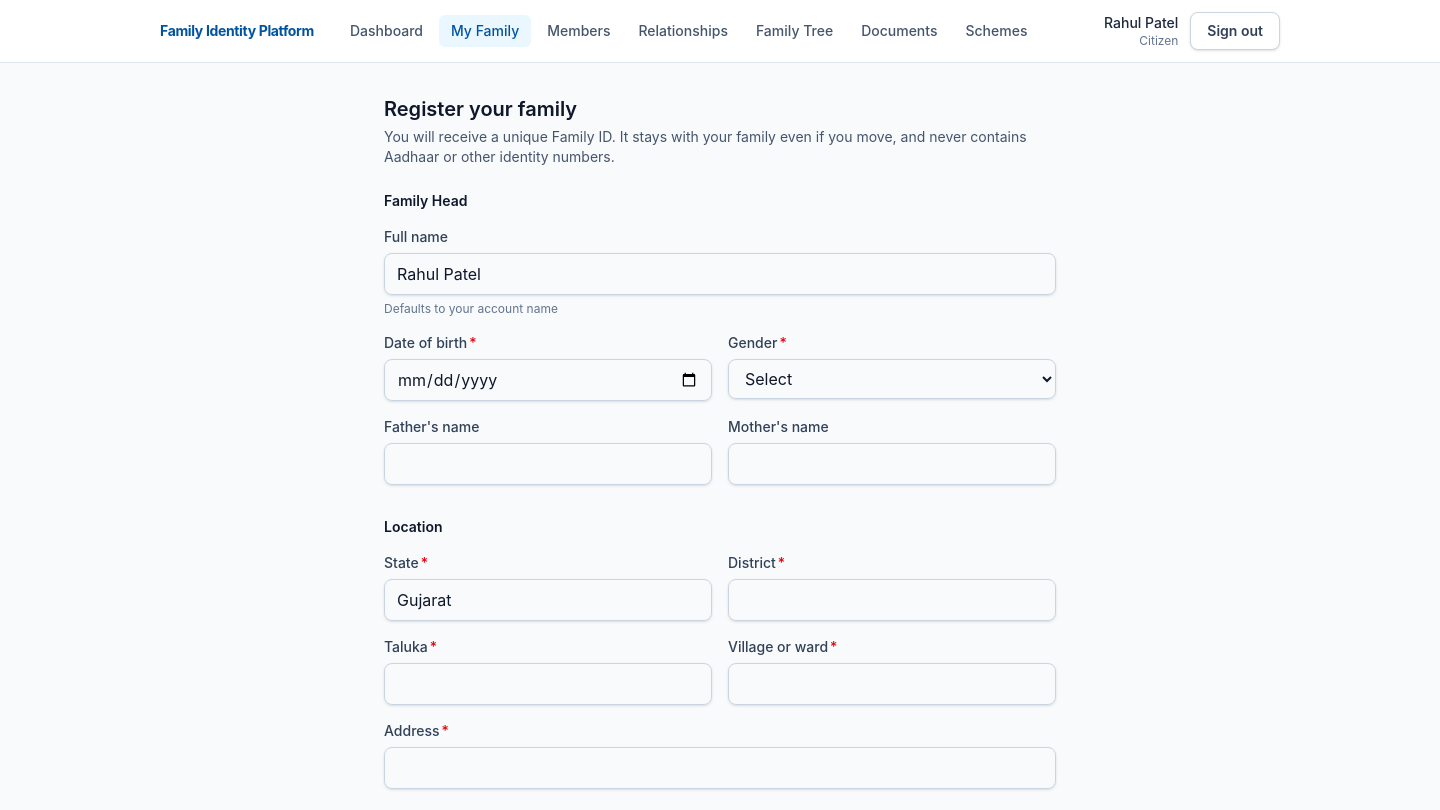
Test case: FamilyRegistrationPage › shows the new Family ID after registering
Check: the field labelled "Full name" is shown, box [384,253,1056,295]
In the date field labelled "Date of birth*": [548, 380] box [384,359,712,401], type "1985-04-12"
Select "Male" in the dropdown labelled "Gender*": [892, 379] box [728,359,1056,399]
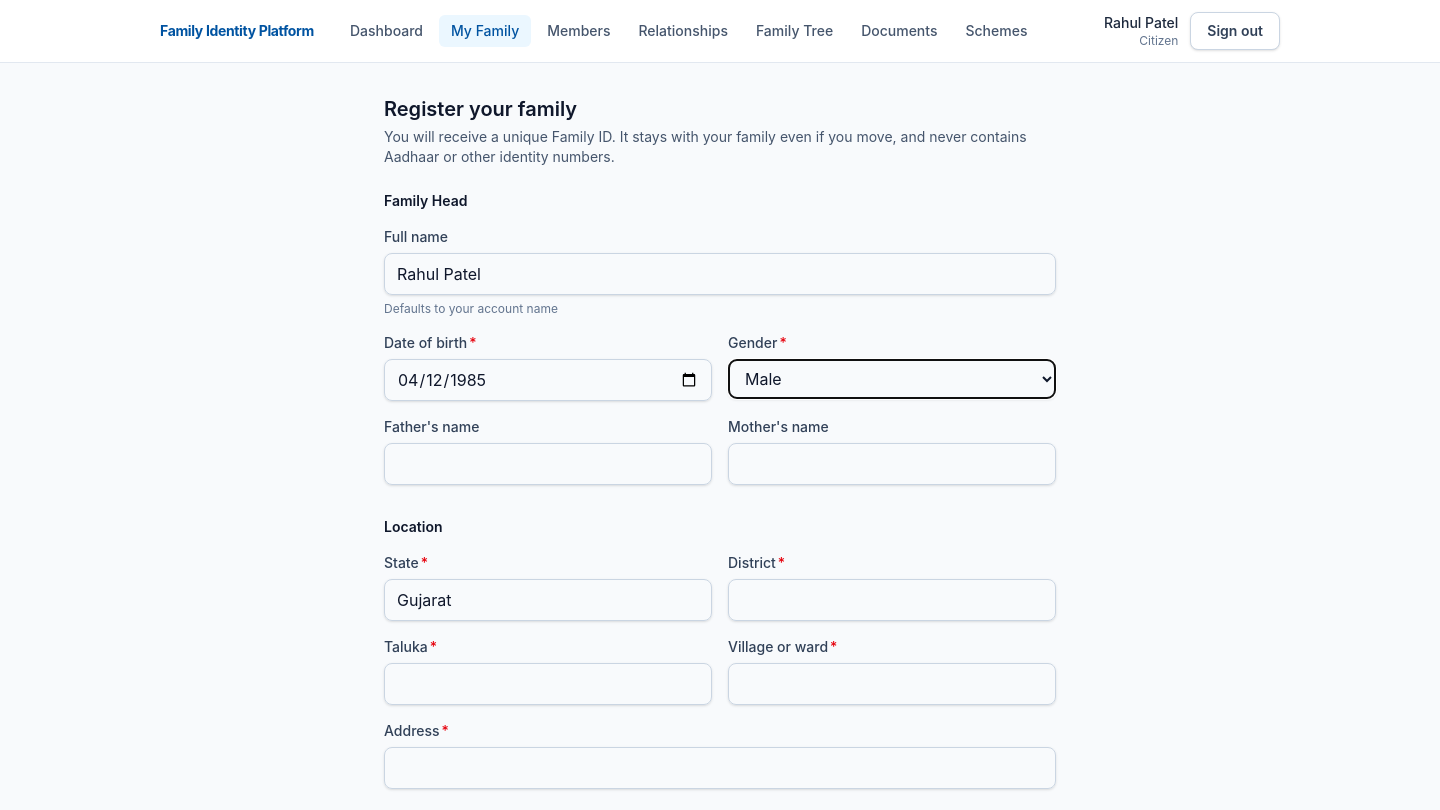
In the field labelled "District*": [892, 600] box [728,579,1056,621], type "Ahmedabad"
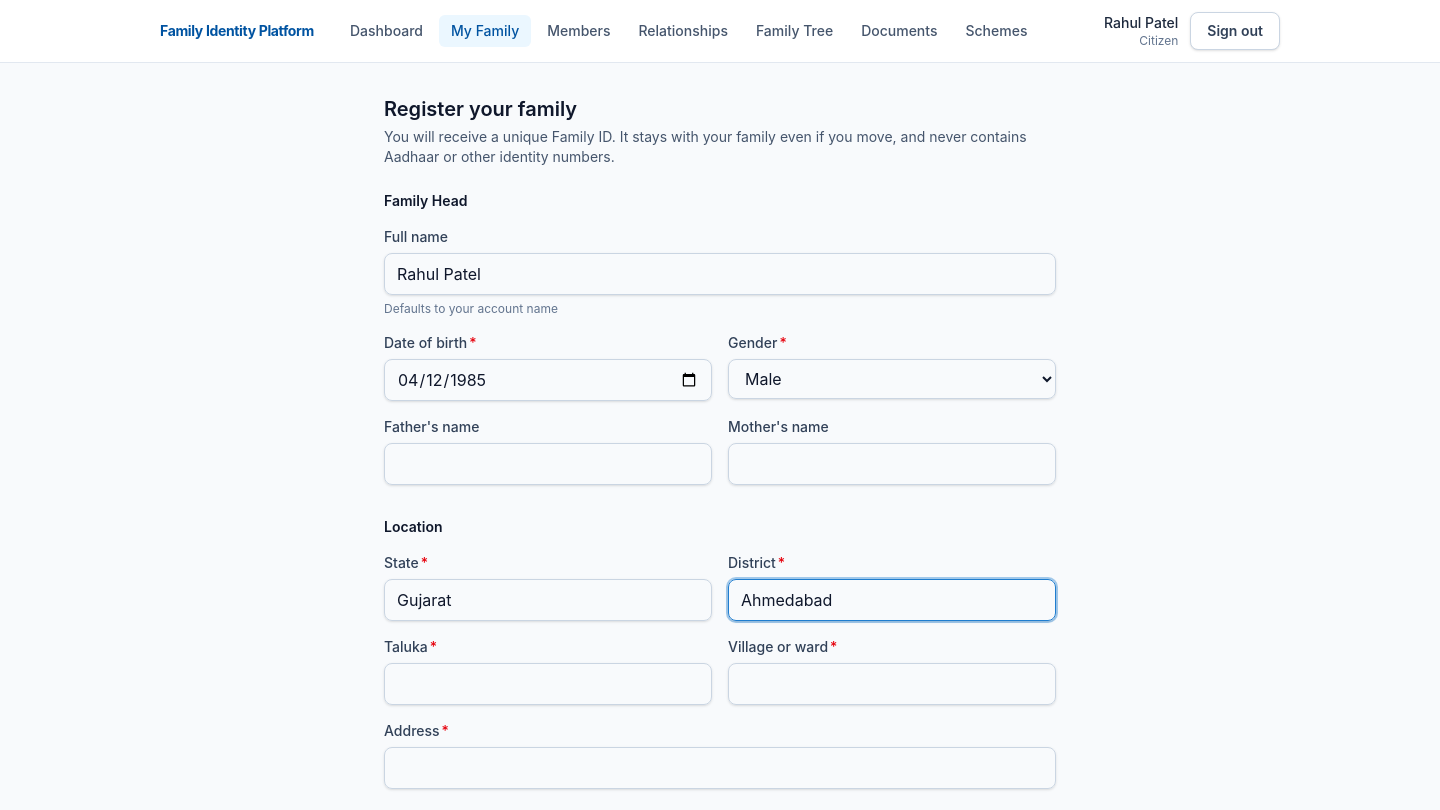
In the field labelled "Taluka*": [548, 684] box [384,663,712,705], type "Daskroi"
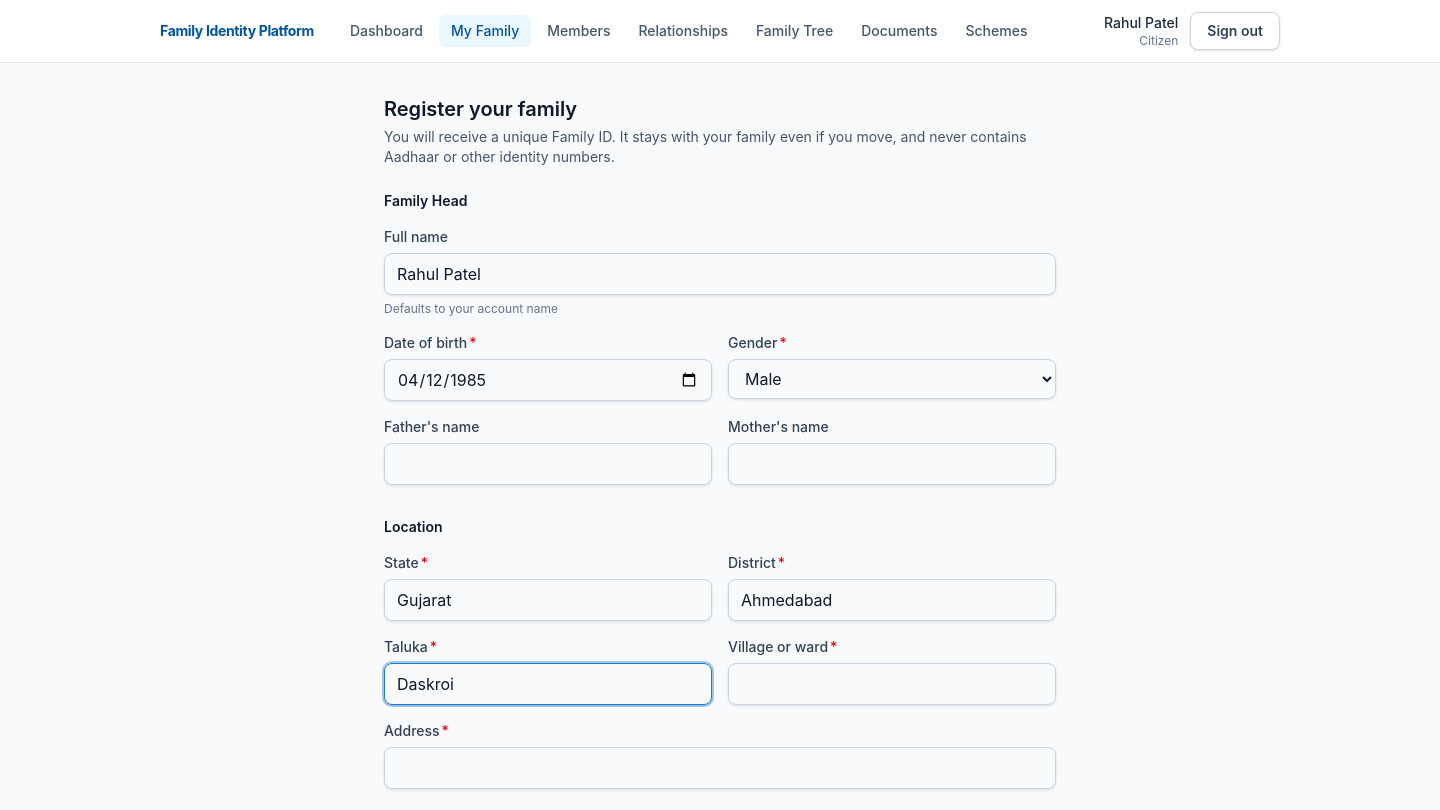
In the field labelled "Village or ward*": [892, 684] box [728,663,1056,705], type "Example Village"
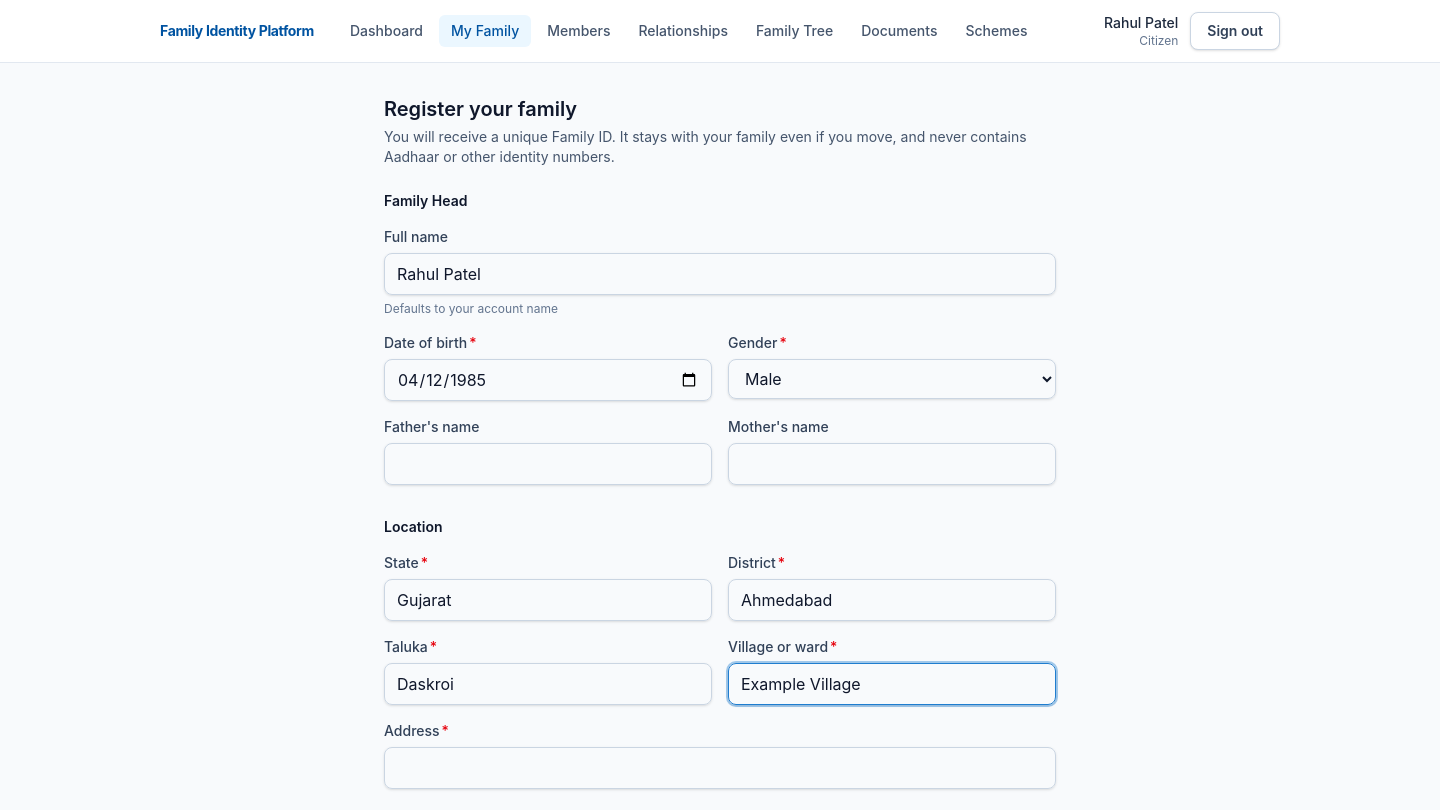
In the field labelled "Address*": [720, 768] box [384,747,1056,789], type "12 Example Road"
(page scrolled)
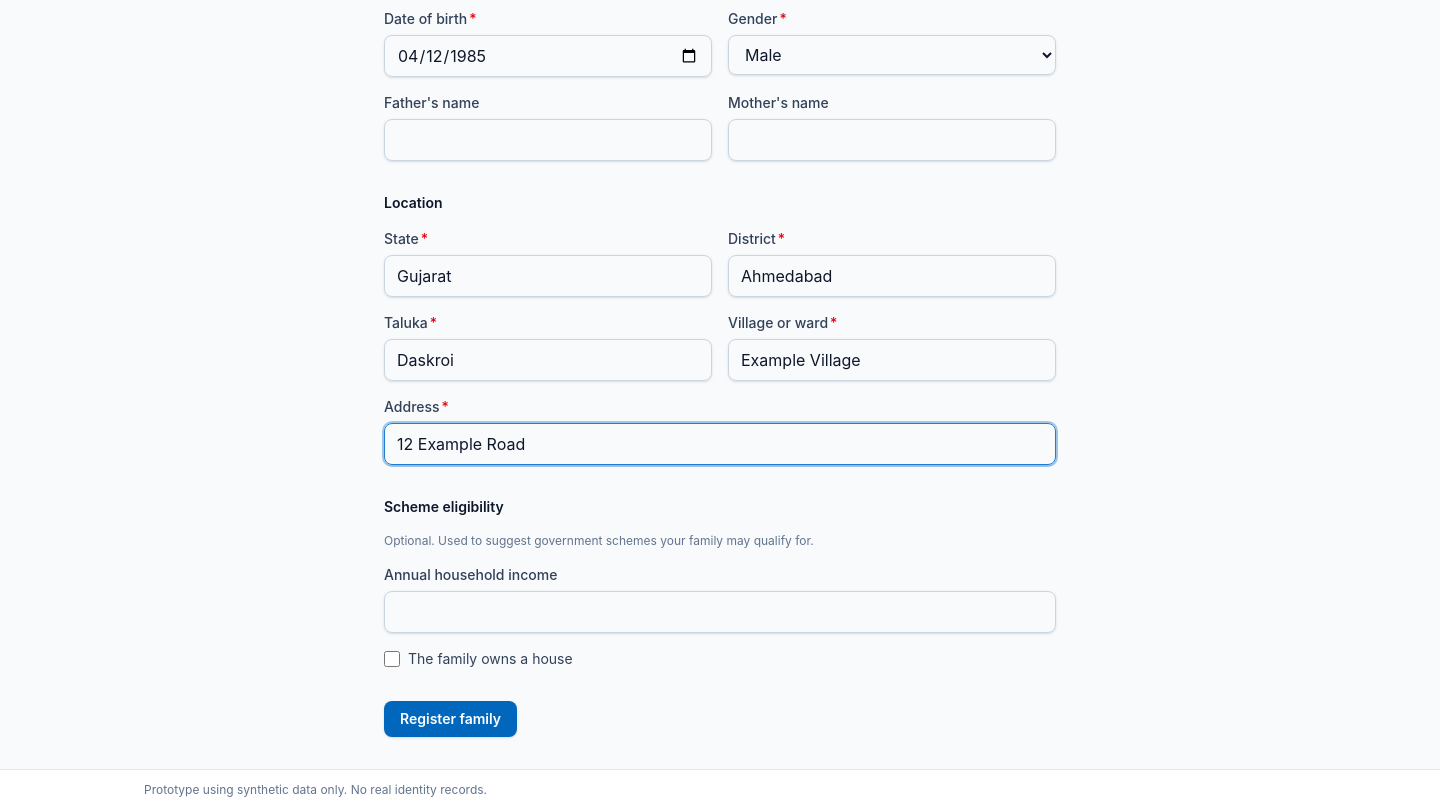
Click the button "Register family": [450, 719] box [384,701,517,737]
(page scrolled)
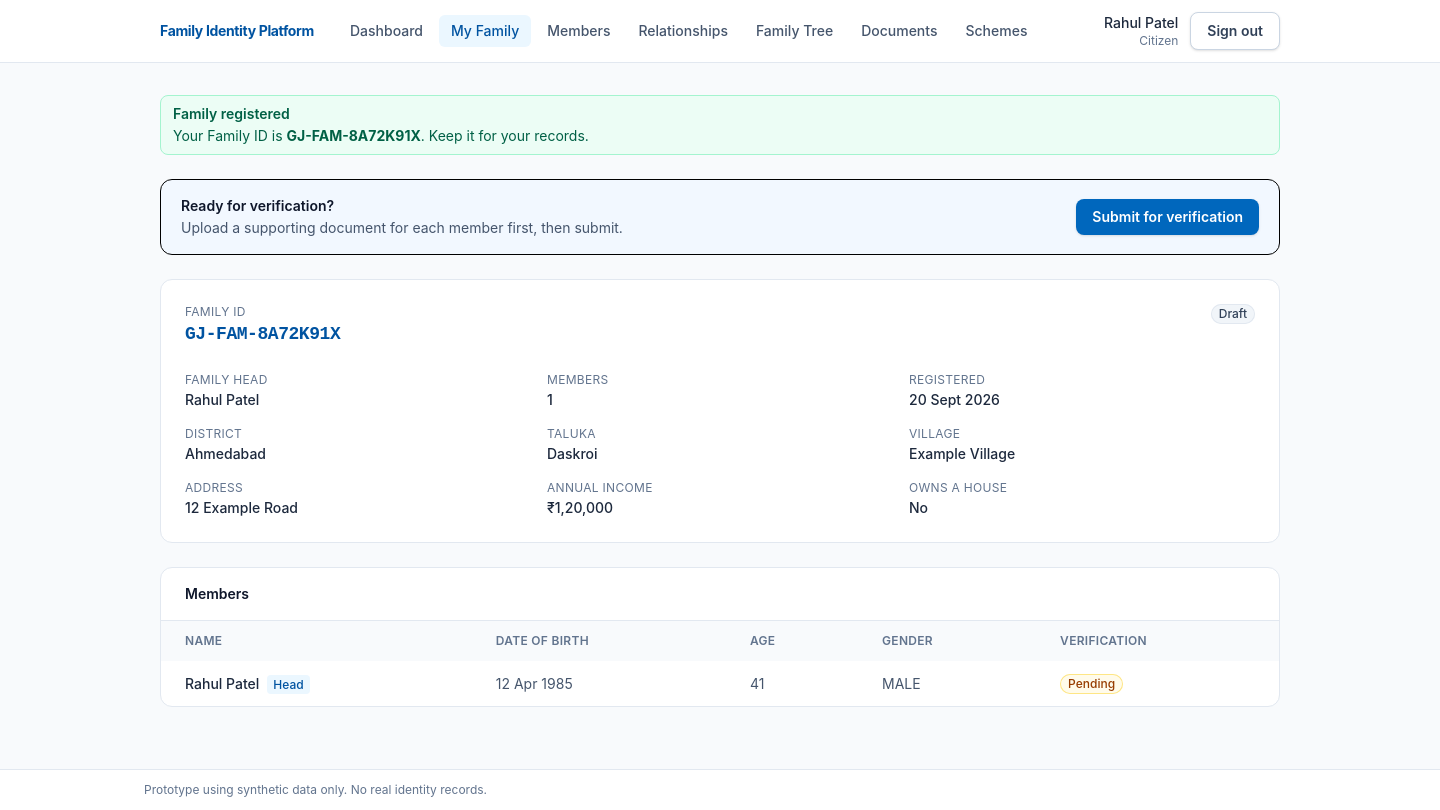
Check: the text "Family registered" is shown, box [173,105,290,122]
